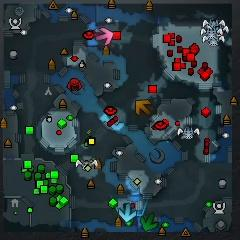x1: (96, 27, 114, 46)
x3: (119, 204, 137, 221)
x4: (141, 214, 158, 230)
x5: (135, 100, 151, 115)
